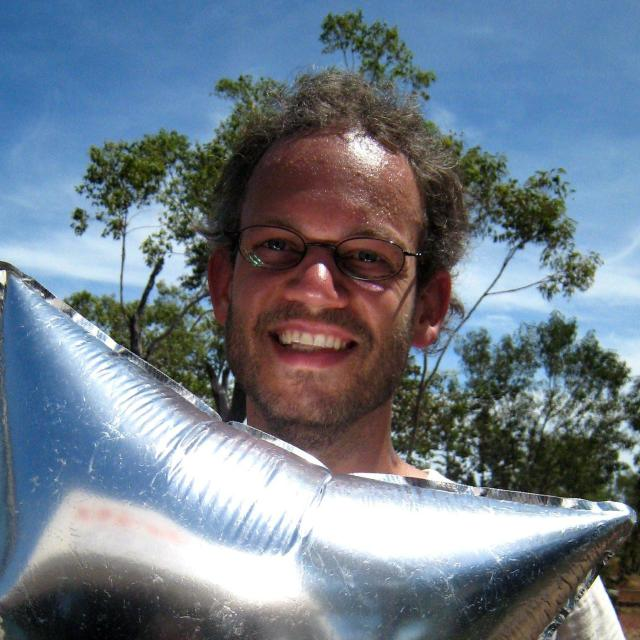no-glass: (248, 238, 388, 263)
